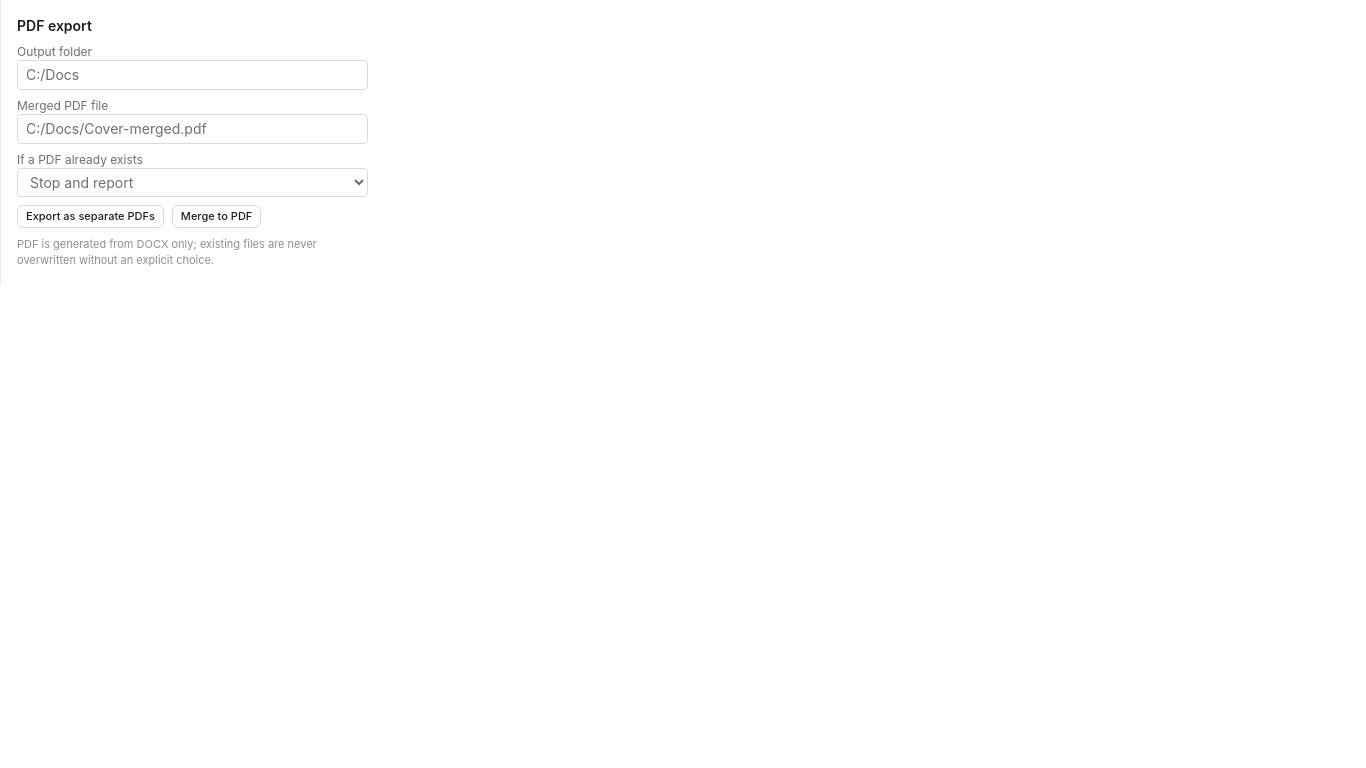
Test: PdfExportPanel › reports a merge collision as skipped in both the results and progress
Click the button "Merge to PDF" at (217, 216), box [172,205,261,228]
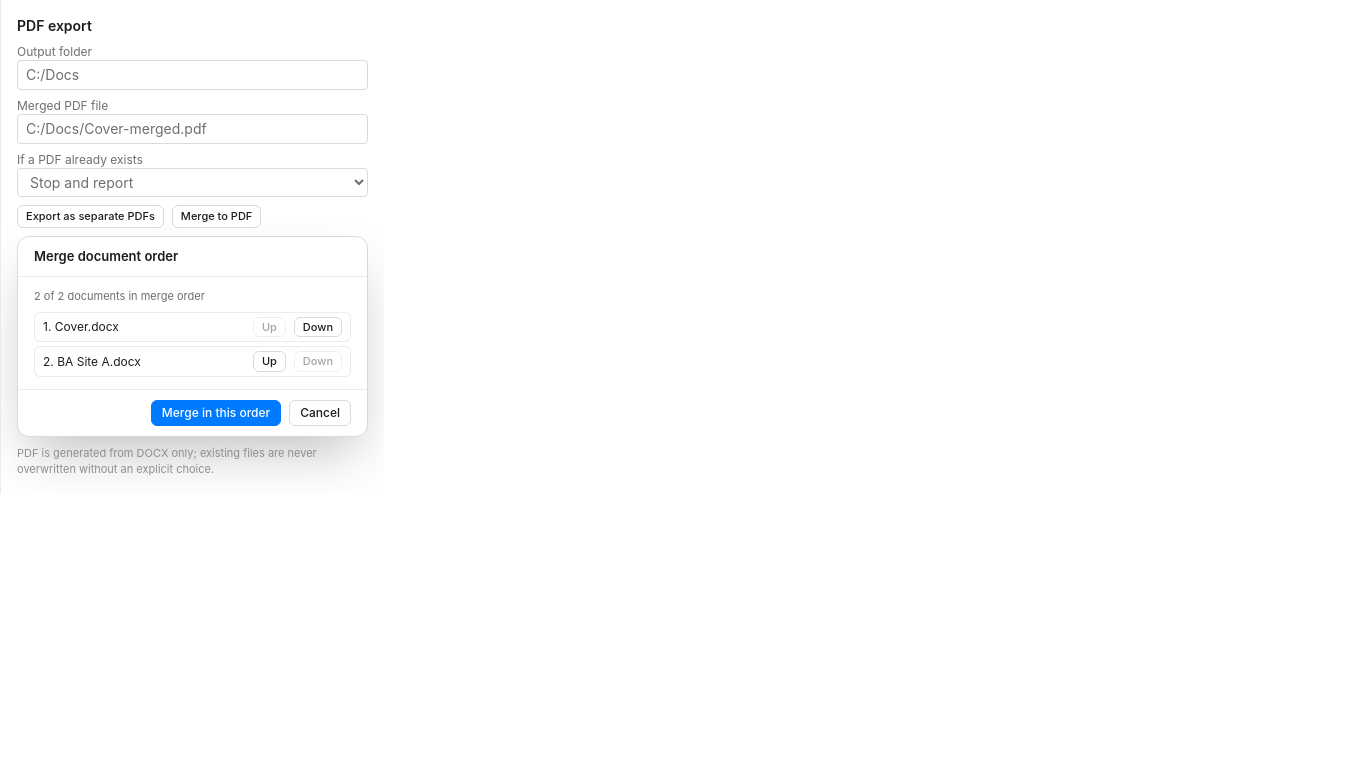
Click the button "Merge in this order" at (216, 413), box [151,400,281,426]
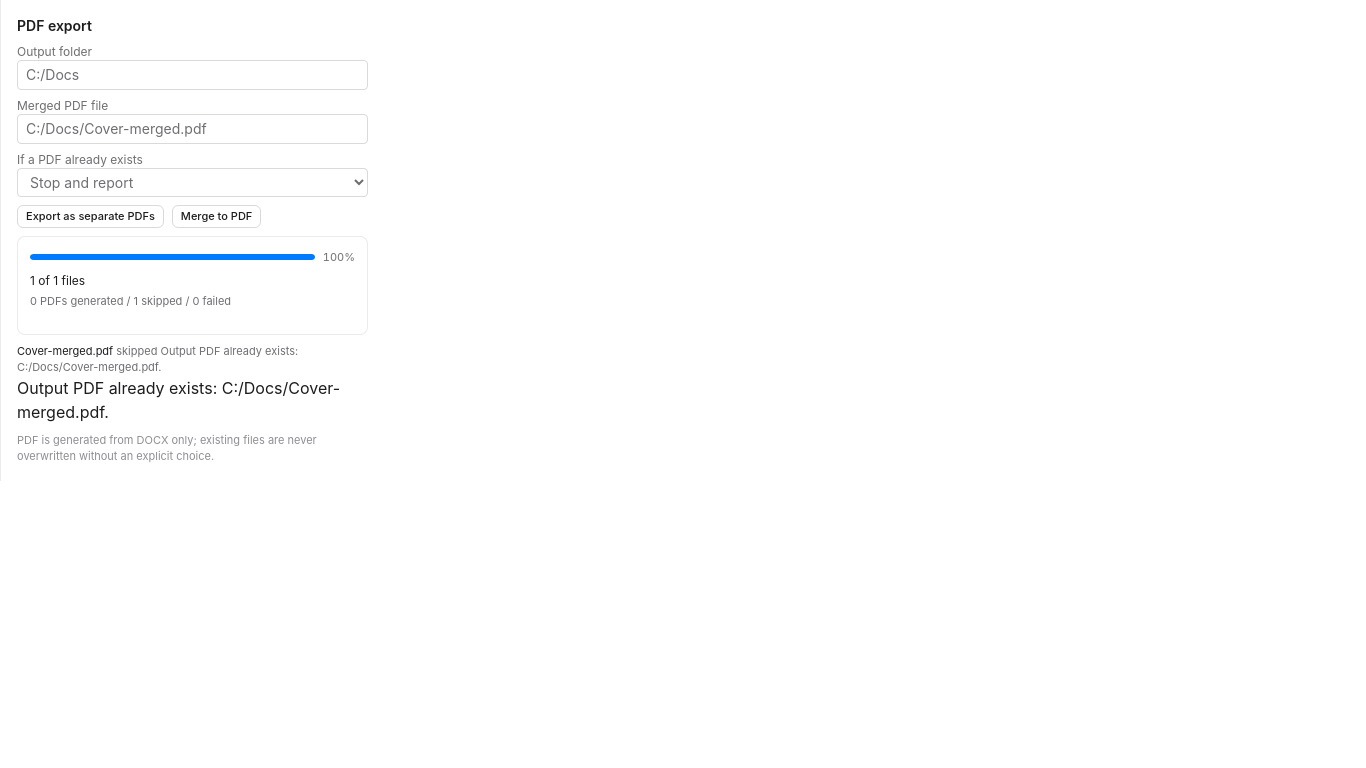
Now the list named "PDF export results" shows "skipped", box [116,344,157,358]
Now the element named "Batch PDF export progress" shows "0 PDFs generated / 1 skipped / 0 failed", box [17,236,368,334]
